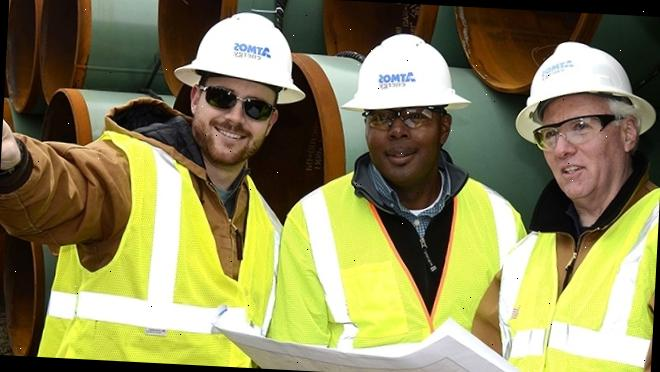helmet: (511, 38, 660, 149), (172, 11, 310, 108), (336, 28, 476, 122)
wear: (270, 169, 526, 372), (53, 148, 282, 369), (501, 186, 658, 372)
